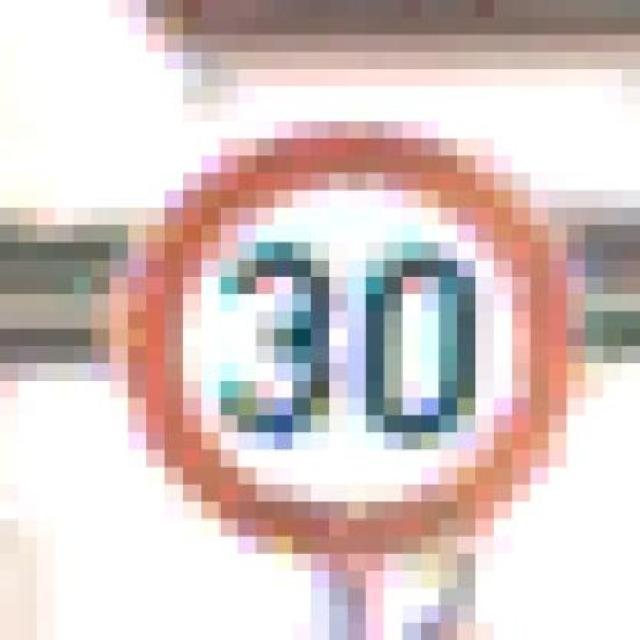Speed Limit 30 KMPh: (55, 104, 622, 588)
